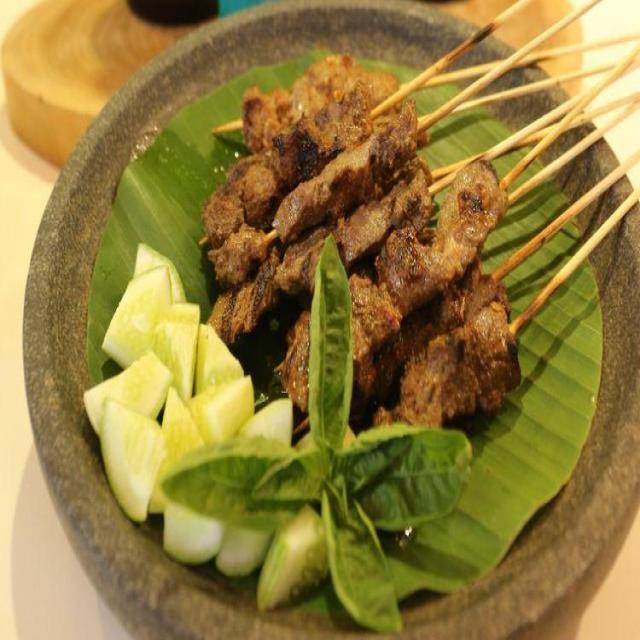Sate: (187, 48, 574, 438)
